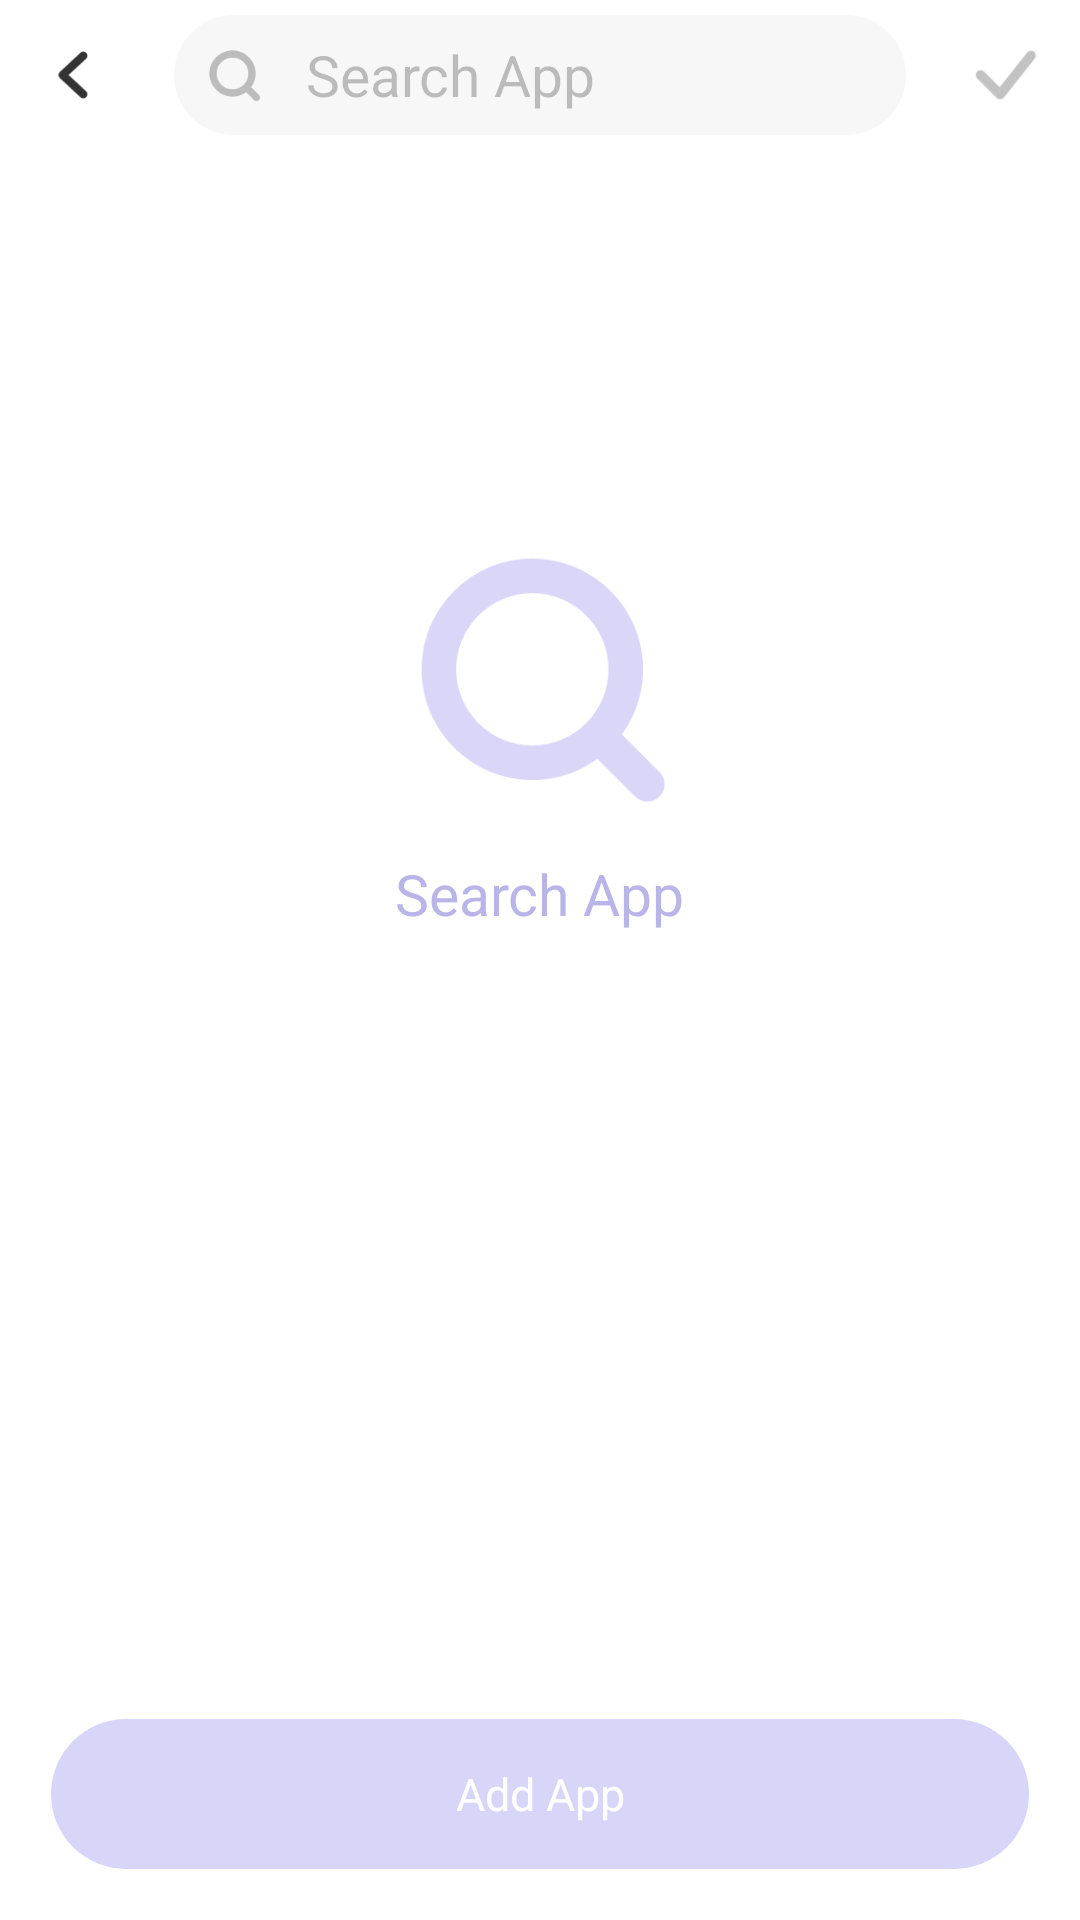

Locate icon controls on the screen. Image size 1080*1920, boxes as bbox=(x1, y1, x2, y2).
back: bbox=(58, 51, 88, 99)
done: bbox=(976, 51, 1036, 99)
nodata search: bbox=(422, 559, 664, 801)
